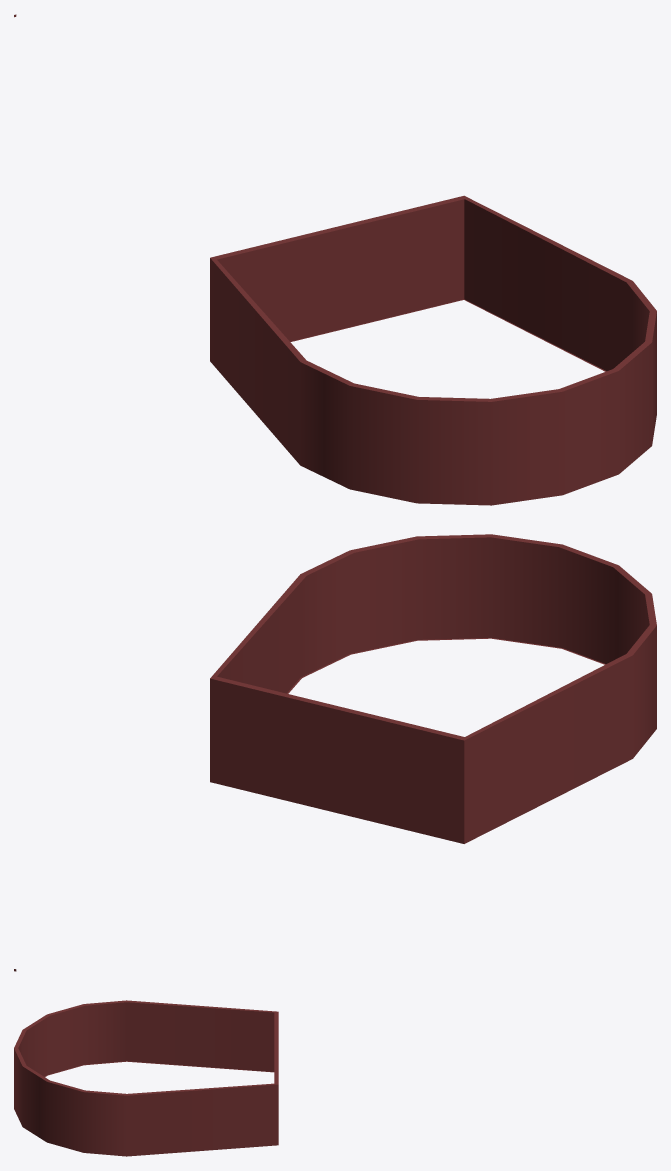
File: AlarmClock_4_AlarmClock_4_0_GeomSubset_1.obj
3 views of the same model, one above another, from view 1: azimuth 30°, elevation 25°; view 2: azimuth 150°, elevation 25°; view 3: azimuth 270°, elevation 25° (orthographic). The views are drawn at different scales.
Visible parts, largest first — view 1: AlarmClock_4_AlarmClock_4_0_GeomSubset_1; view 2: AlarmClock_4_AlarmClock_4_0_GeomSubset_1; view 3: AlarmClock_4_AlarmClock_4_0_GeomSubset_1.
Part boxes in pixels (bbox=[...]): AlarmClock_4_AlarmClock_4_0_GeomSubset_1: bbox=[14, 14, 656, 505]; AlarmClock_4_AlarmClock_4_0_GeomSubset_1: bbox=[14, 534, 656, 971]; AlarmClock_4_AlarmClock_4_0_GeomSubset_1: bbox=[14, 1000, 278, 1156].
Size of the model in its own units: 0.149 by 0.0444 by 0.4251.
